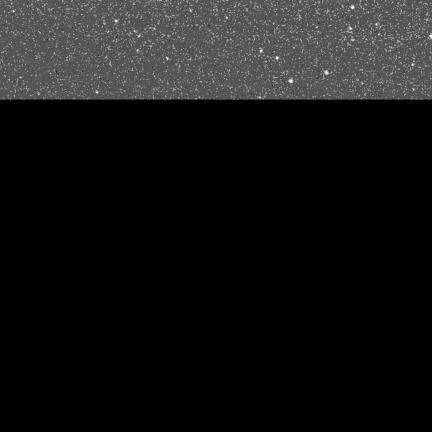blob: (351, 5, 355, 10), (114, 19, 119, 23), (349, 27, 353, 31), (289, 79, 293, 83), (411, 63, 415, 67), (96, 91, 100, 95), (324, 71, 328, 75), (260, 49, 263, 53), (137, 49, 140, 53), (166, 57, 169, 61), (276, 57, 279, 60), (413, 88, 416, 91), (351, 38, 354, 41), (376, 23, 378, 26), (430, 34, 431, 39)
